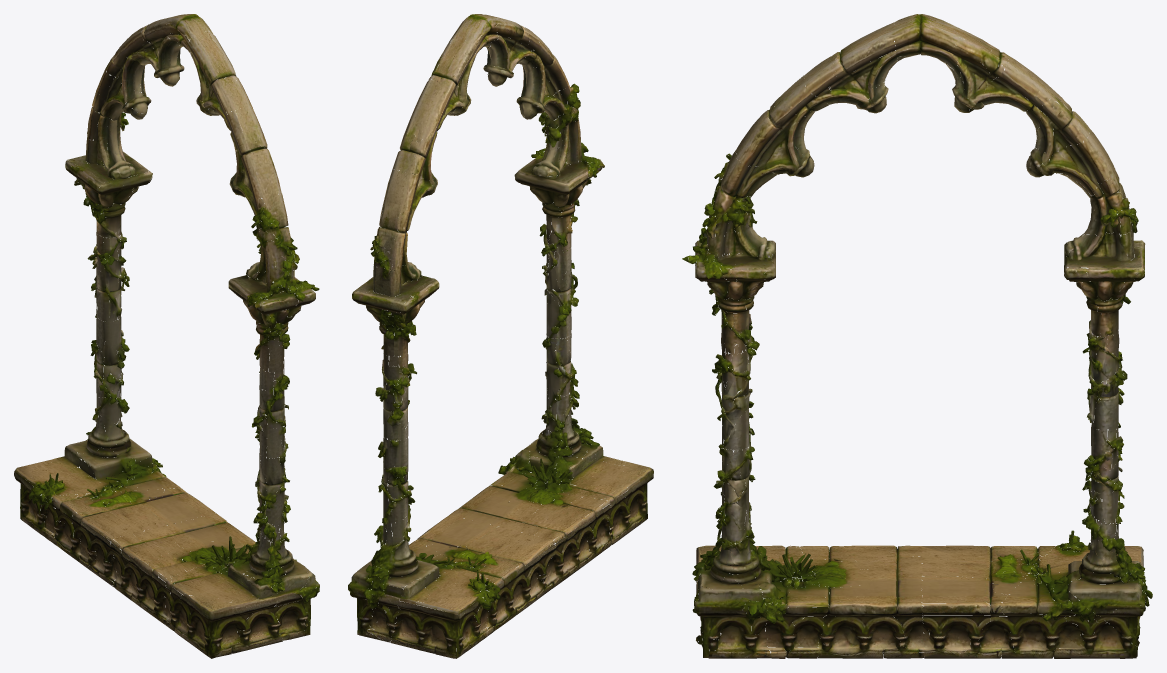
File: gothic-frame.glb
3 renders of one model, left to right at view 1: azimuth 30°, elevation 25°; view 2: azimuth 150°, elevation 25°; view 3: azimuth 270°, elevation 25°, orthographic. The views are drawn at different scales.
Parts seen in each view (by area): view 1: tripo_node_59be6783-f554-4be9-9fca-dc31c500dedb; view 2: tripo_node_59be6783-f554-4be9-9fca-dc31c500dedb; view 3: tripo_node_59be6783-f554-4be9-9fca-dc31c500dedb.
Part boxes in pixels (box(x1,y1,x2,y2)): tripo_node_59be6783-f554-4be9-9fca-dc31c500dedb: box(14, 14, 319, 658); tripo_node_59be6783-f554-4be9-9fca-dc31c500dedb: box(348, 14, 653, 658); tripo_node_59be6783-f554-4be9-9fca-dc31c500dedb: box(682, 14, 1152, 658).
Bounding box in the file's own units: 0.2436 × 0.979 × 0.6661.
Materials: 1 (1 with a texture image).
